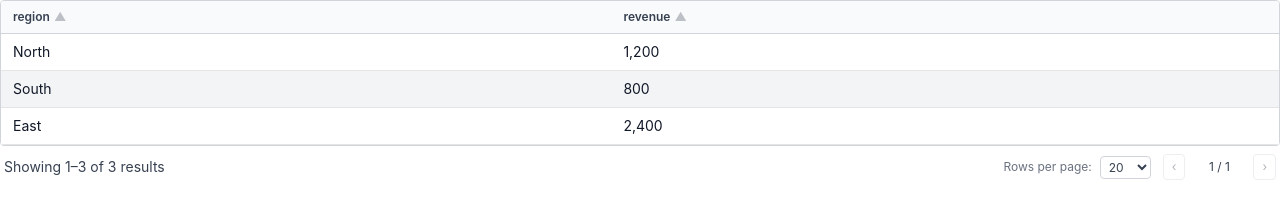
DataTable — sorting › sorts strings alphabetically
Click the column heading "region ▲" at point(306, 17), box [1,1,611,34]
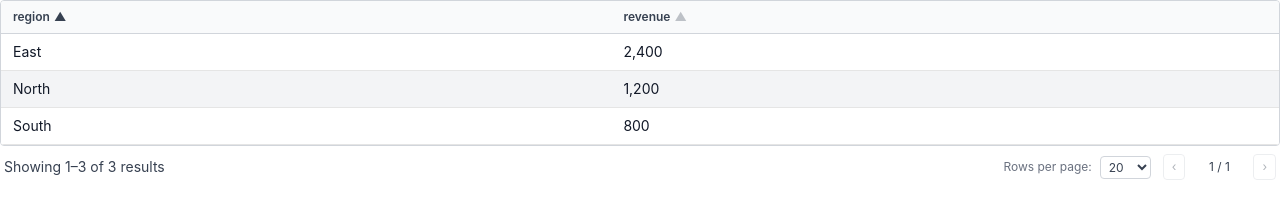
Check: the text "East" is shown, box [1,34,611,70]
Check: the text "North" is shown, box [1,70,611,108]
Check: the text "South" is shown, box [1,108,611,144]
